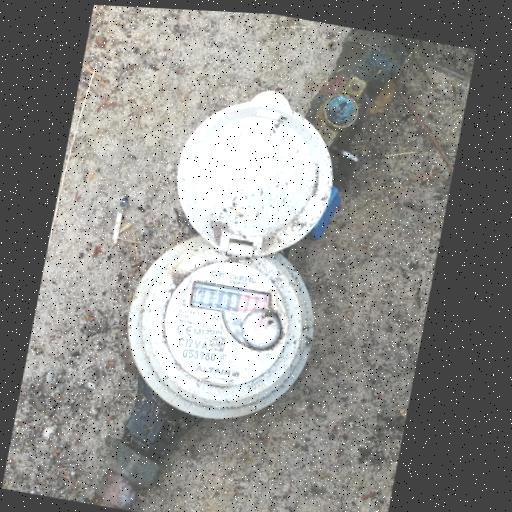0: (200, 287, 214, 307), (191, 286, 205, 305), (218, 291, 231, 310)
2: (210, 288, 222, 309)
3: (247, 295, 259, 313)
6: (255, 294, 268, 311)
8: (238, 293, 250, 314)
9: (229, 292, 241, 312)
border_water_meter_number: (188, 279, 274, 322)
